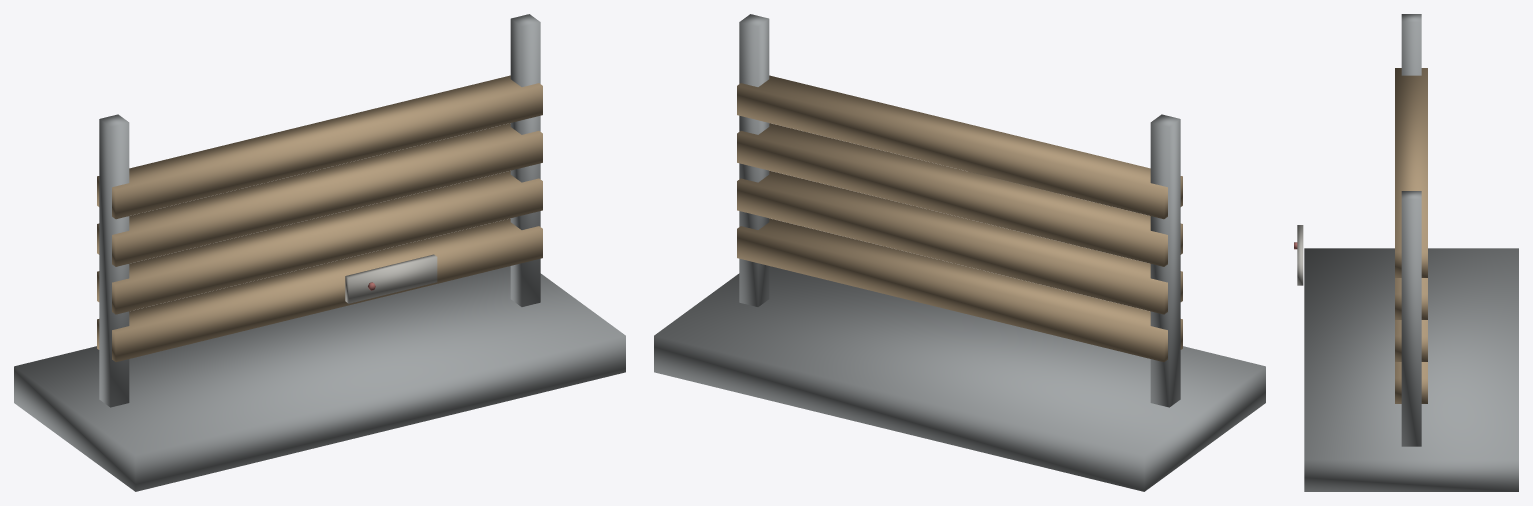
Rendered from lumber_cart__compact.glb.
3 renders of one model, left to right at view 1: azimuth 30°, elevation 25°; view 2: azimuth 150°, elevation 25°; view 3: azimuth 270°, elevation 25°, orthographic. The views are drawn at different scales.
Parts seen in each view (by area): view 1: world; view 2: world; view 3: world.
Part boxes in pixels (box(x1,y1,x2,y2)): world: box(14, 14, 625, 491); world: box(654, 14, 1265, 491); world: box(1294, 14, 1518, 491).
Bounding box in the file's own units: 1.3 × 0.8045 × 0.5857.
